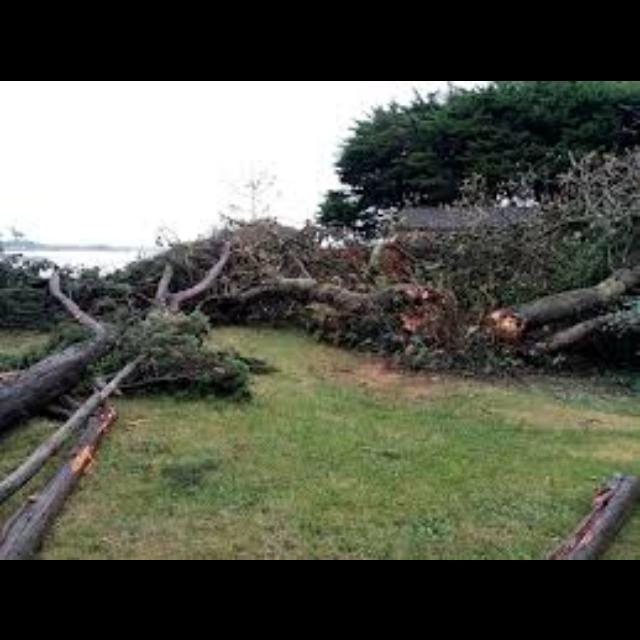Fallen Tree: (2, 350, 140, 500), (2, 409, 124, 559), (197, 264, 443, 338), (7, 260, 105, 416), (479, 264, 639, 340)
